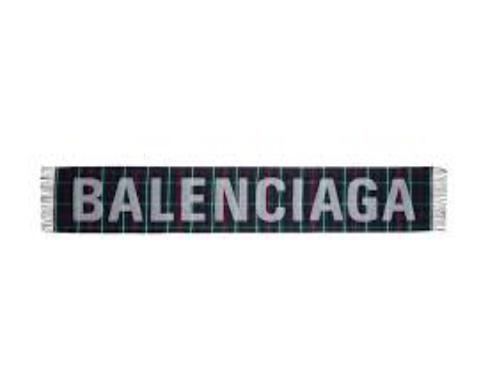BALENCIAGA: (69, 173, 417, 224)
